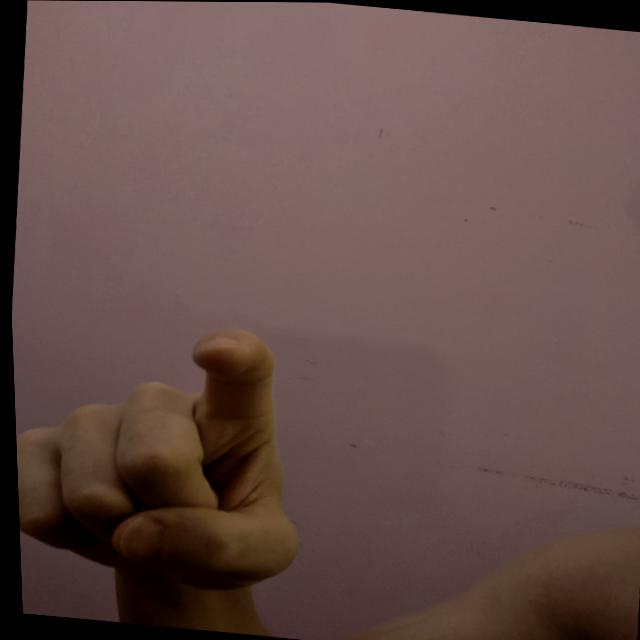Z: (9, 300, 322, 608)
